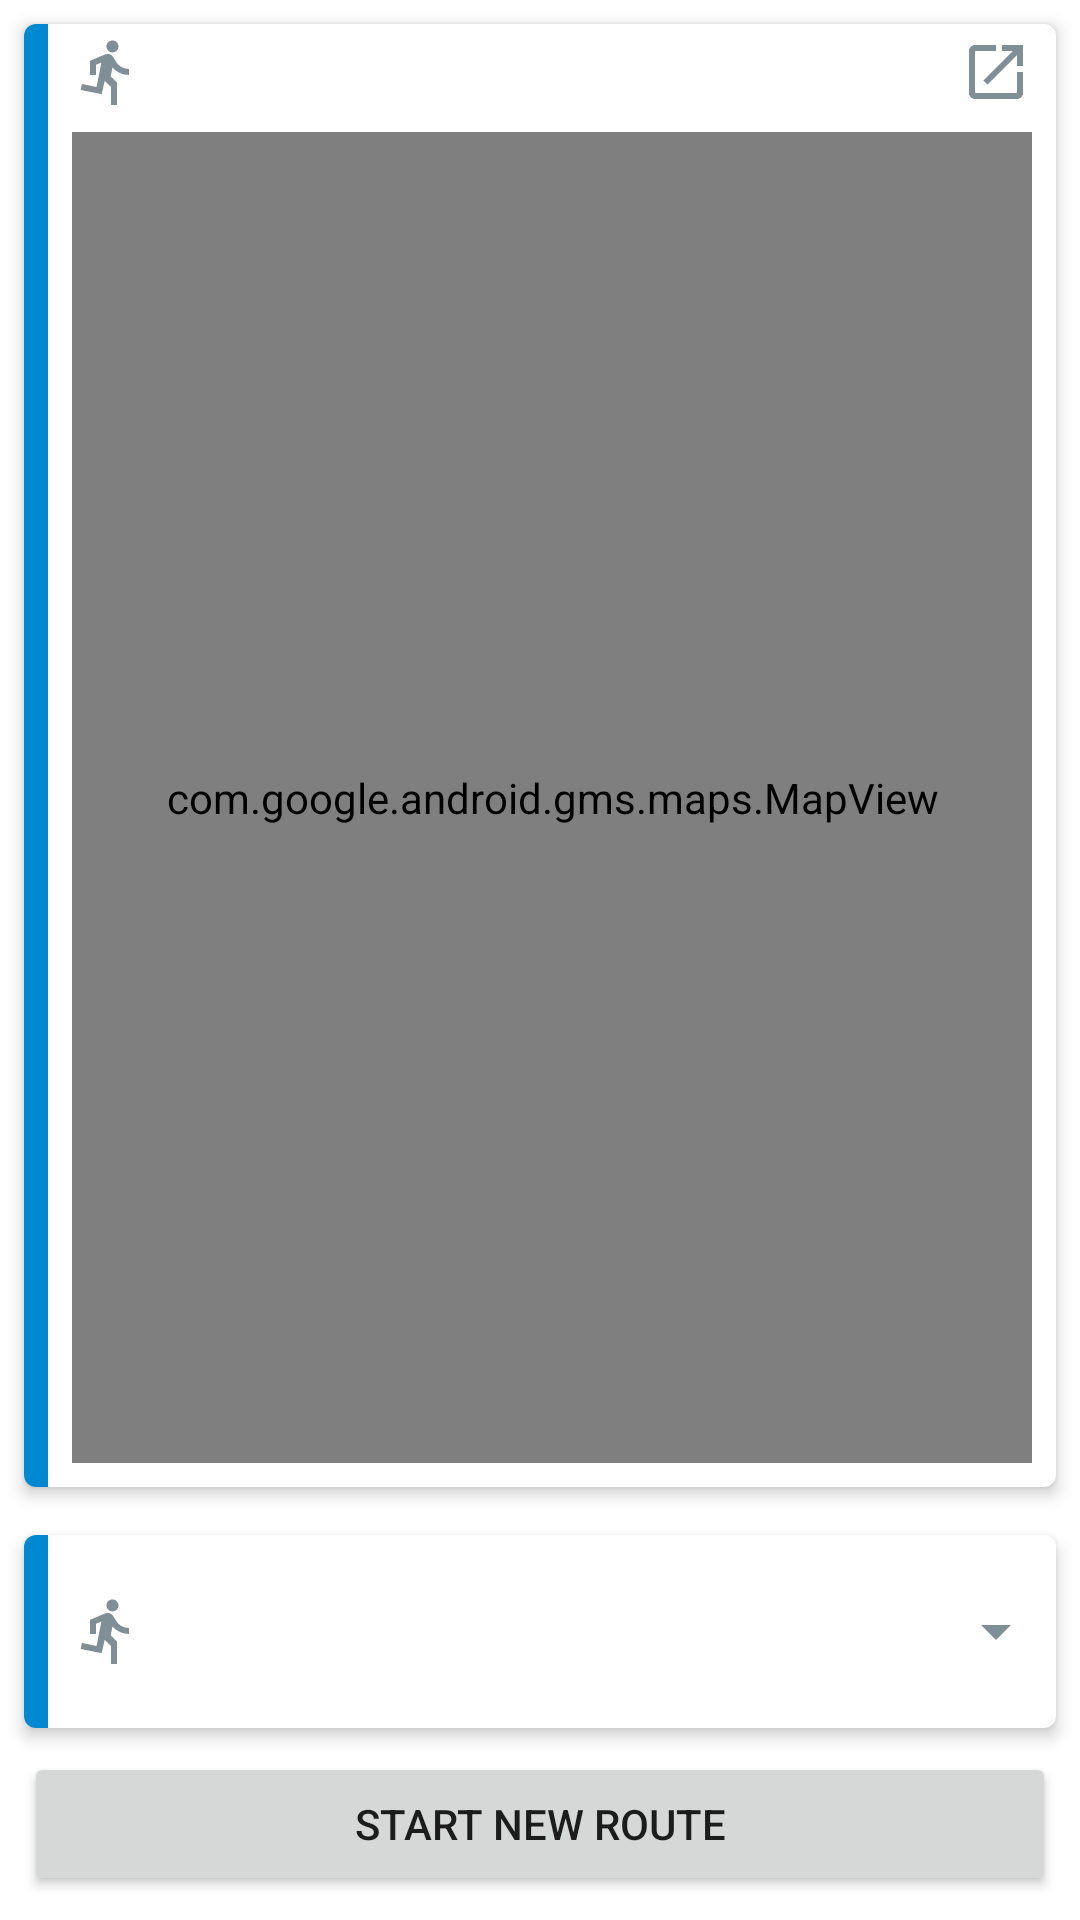

Icon click points for this 1080*1920 phone screenshot, format [x,y]:
Open route detail: [996,72]
